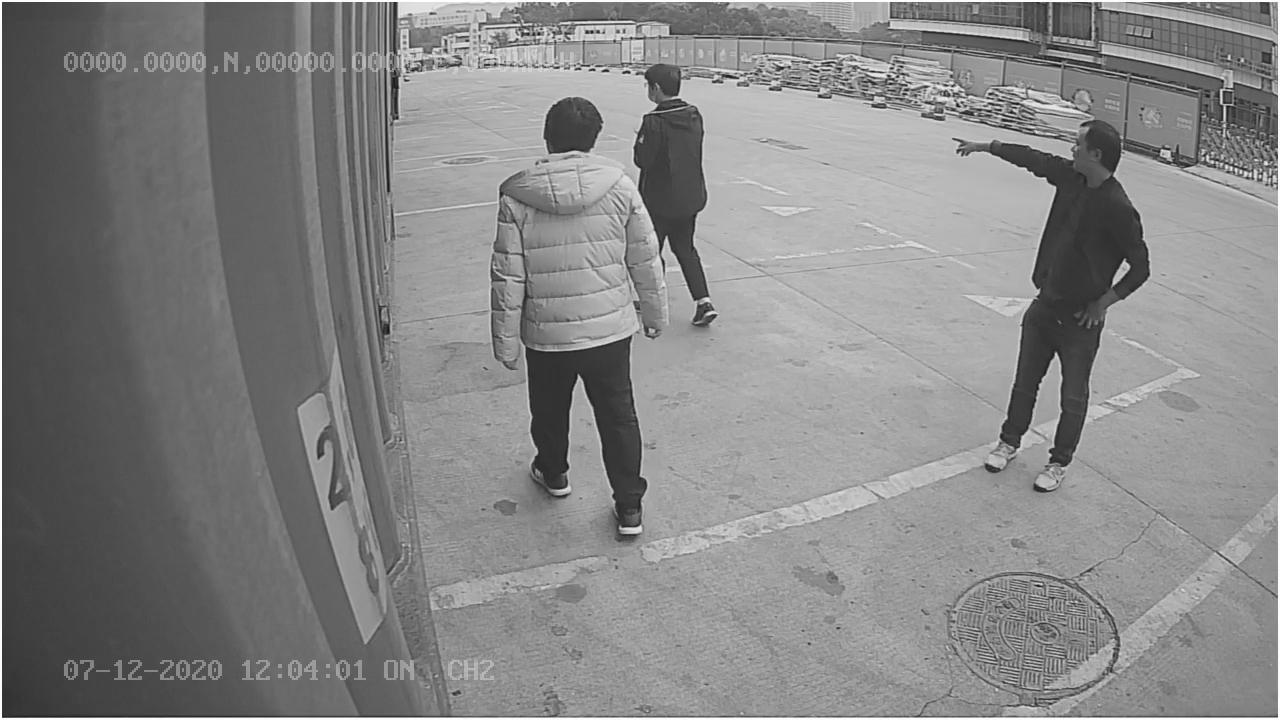person: (949, 112, 1152, 494)
